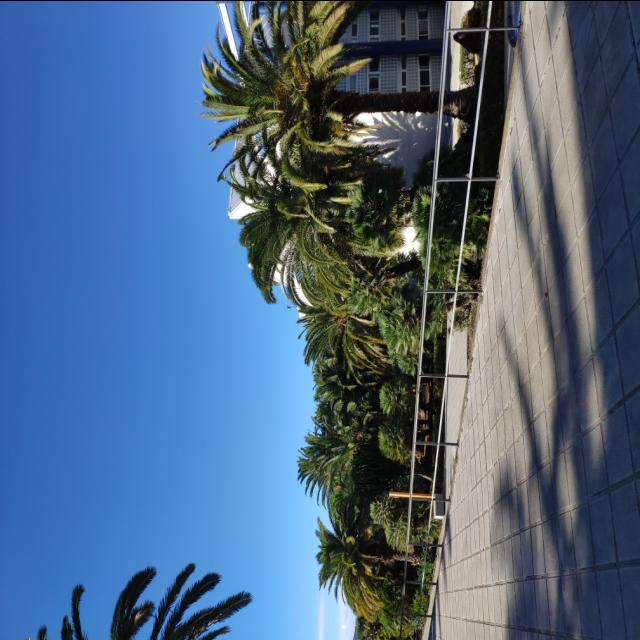Palm-Trees: (202, 0, 476, 195)
